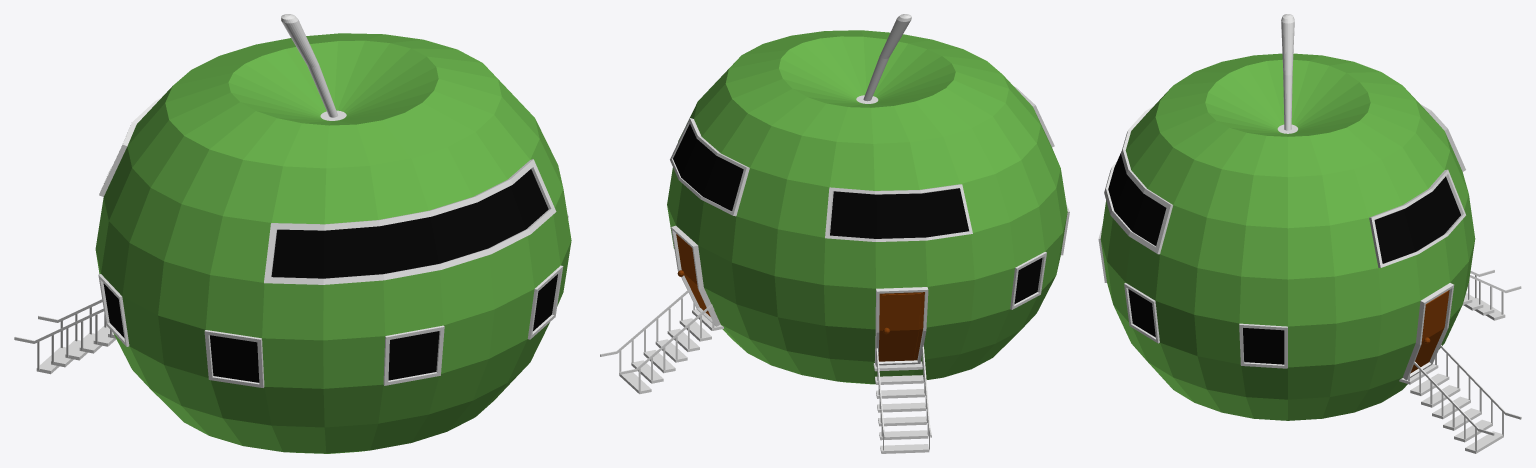
File: houseappleGREEN.fbx
The picture shows the model from 3 angles, left to right: view 1: azimuth 30°, elevation 25°; view 2: azimuth 150°, elevation 25°; view 3: azimuth 270°, elevation 25°; orthographic projection. The views are drawn at different scales.
Parts seen in each view (by area): view 1: houseappleGREEN; view 2: houseappleGREEN; view 3: houseappleGREEN.
Boxes of the visible parts, x1,y1,x2,y2 form: houseappleGREEN: (14,14,571,453); houseappleGREEN: (600,14,1069,453); houseappleGREEN: (1098,14,1521,453).
Bounding box in the file's own units: 490 × 442 × 493.
